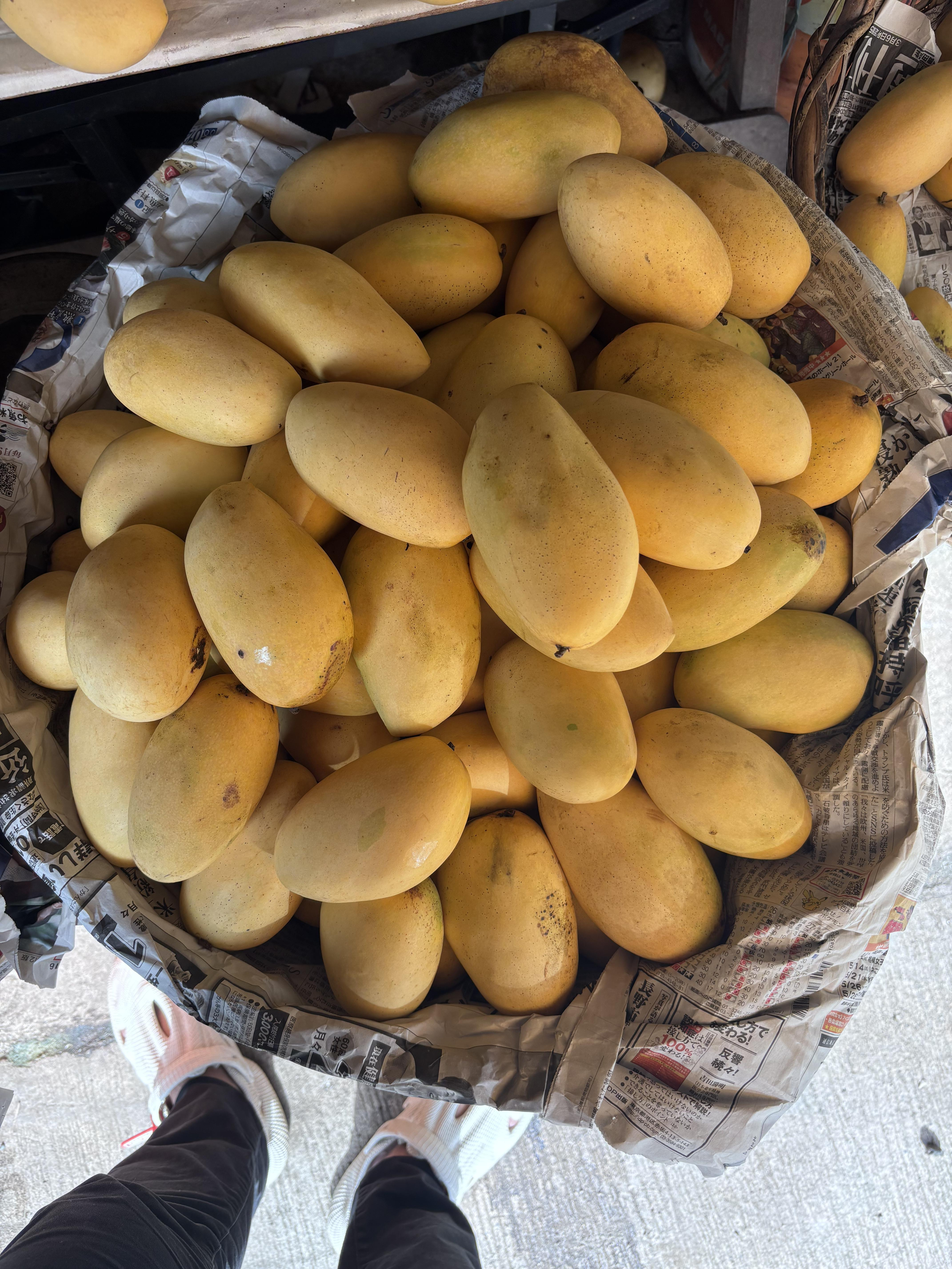mango: (462, 383, 639, 659), (185, 482, 353, 707), (275, 737, 470, 903), (128, 673, 278, 882), (219, 242, 430, 389), (558, 153, 732, 329), (104, 309, 301, 447), (635, 708, 811, 858), (535, 955, 536, 956)
occluded: (562, 390, 761, 571), (594, 323, 811, 485), (538, 778, 723, 964), (284, 382, 470, 548), (642, 488, 825, 652), (342, 527, 481, 737), (435, 810, 578, 1014), (65, 525, 210, 722), (409, 90, 620, 223), (179, 760, 316, 951), (484, 638, 636, 809), (470, 545, 674, 672), (657, 153, 811, 319), (674, 609, 873, 734), (482, 32, 667, 165), (81, 425, 246, 549), (334, 214, 502, 331), (271, 133, 422, 252), (320, 879, 443, 1020), (436, 314, 576, 434), (69, 688, 158, 868), (837, 63, 952, 195), (506, 212, 604, 351), (776, 379, 881, 508), (0, 0, 168, 73), (242, 431, 348, 544), (427, 710, 536, 816), (49, 410, 151, 497), (278, 708, 394, 781), (6, 571, 77, 690), (403, 312, 494, 402), (455, 596, 514, 714), (837, 192, 907, 288), (784, 515, 852, 612), (474, 218, 535, 316), (123, 277, 229, 323), (615, 652, 679, 724), (300, 656, 375, 716), (699, 312, 770, 367), (906, 287, 952, 357)
